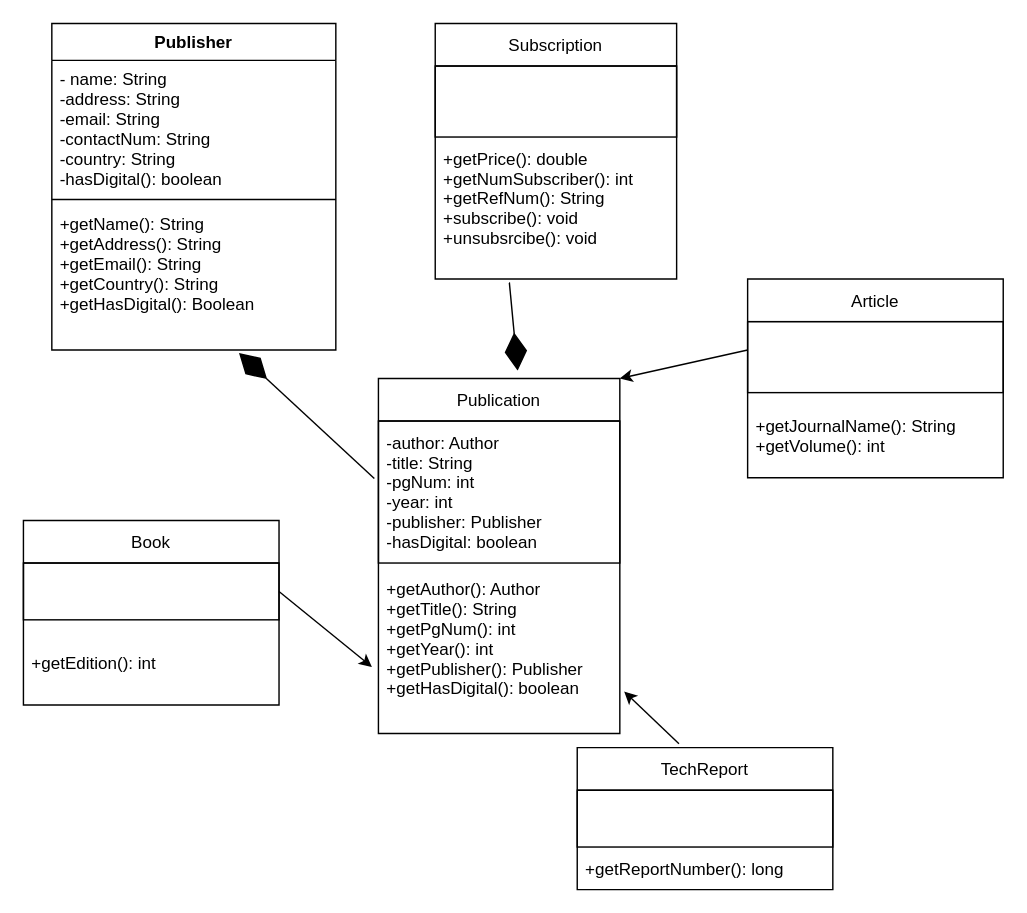
Image size: 1027x913. Some labels were removed from this diagram. The centre of each missing label's shape, as x and y in pixels:
"-edition: int" goes at point (150, 591).
"-journalName: String -volume: int" goes at point (874, 356).
"-price: double -numSubscriber: int -refNum: String" goes at point (555, 101).
"-reportNumber: long" goes at point (704, 818).
